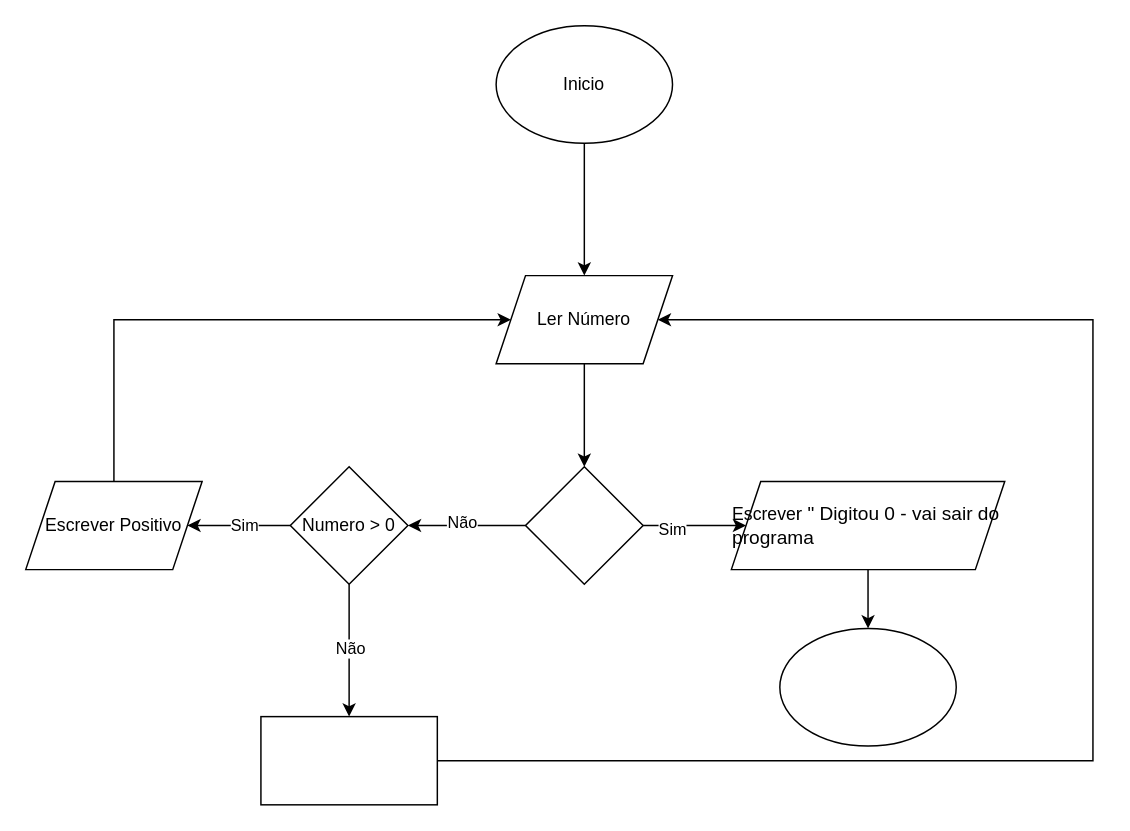
Some shapes in this 1130 by 831 pixel diagram are drawn without their labels. Here are the shapes that lost their labels. From the top down, the centre of each, then its label:
At point 583,524: "Numero = 0".
At point 867,686: "Fim".
At point 348,760: "Escrever Negativo".
